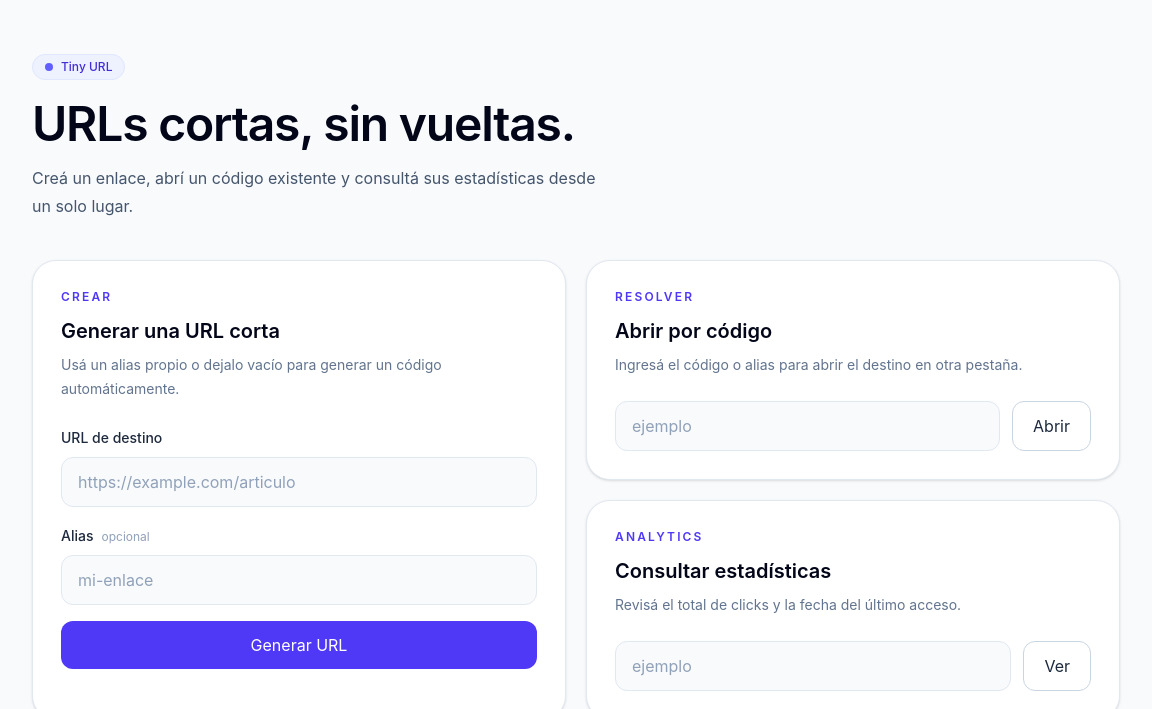
Test case: frontend App › loads and displays URL statistics
The width and height of the screenshot is (1152, 709).
Type "example" into the field named "Código para estadísticas". click: (813, 666)
box: [615,641,1011,691]
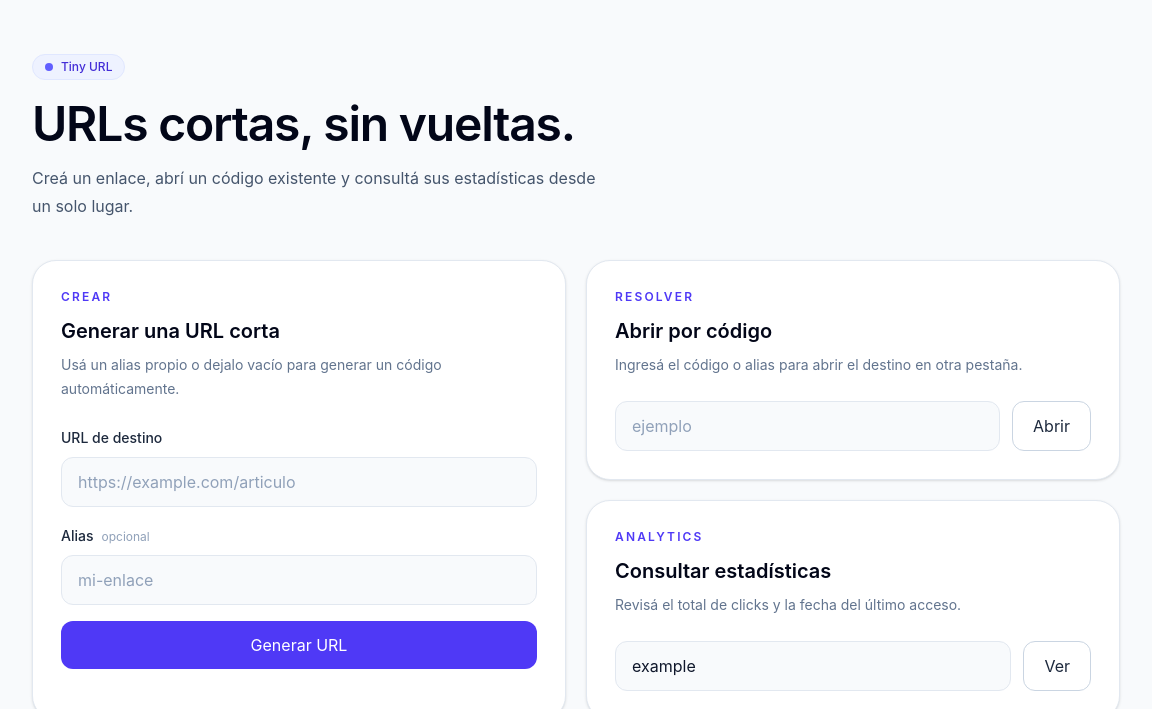
Click the button "Ver". click: click(1057, 666)
box: [1023,641,1091,691]
(page scrolled)
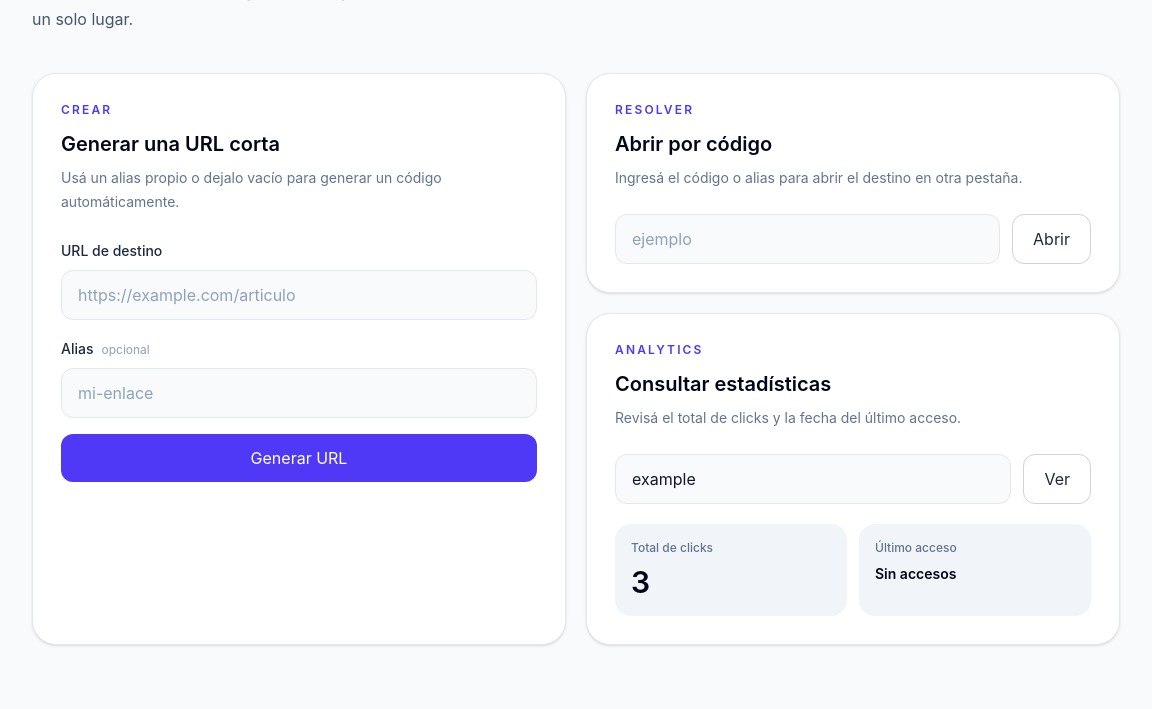
expect the text "3" is shown: met, box [631,564,650,600]
expect the text "Sin accesos" is shown: met, box [875,565,956,582]
